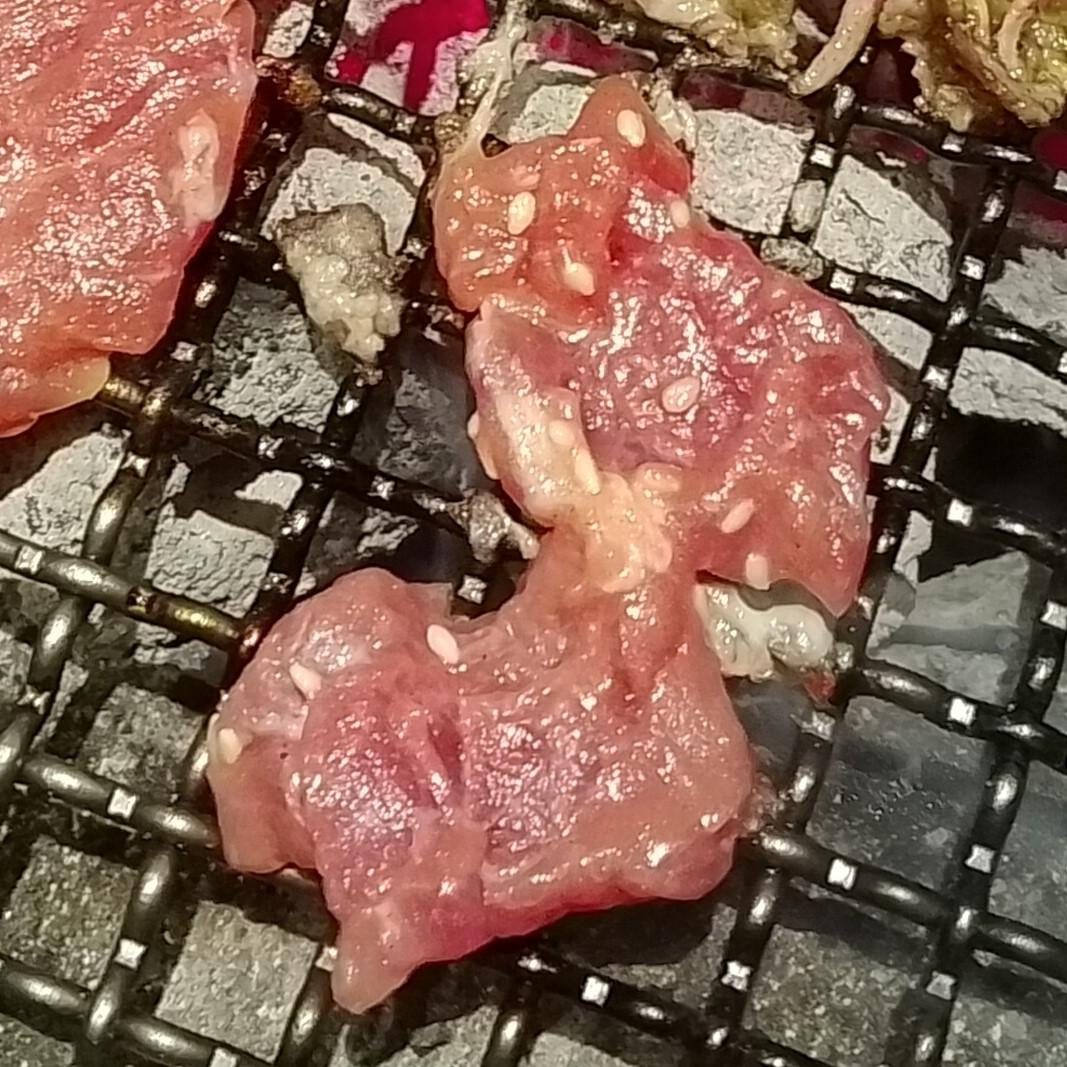Undercooked: (204, 78, 903, 1019), (0, 0, 264, 438)
